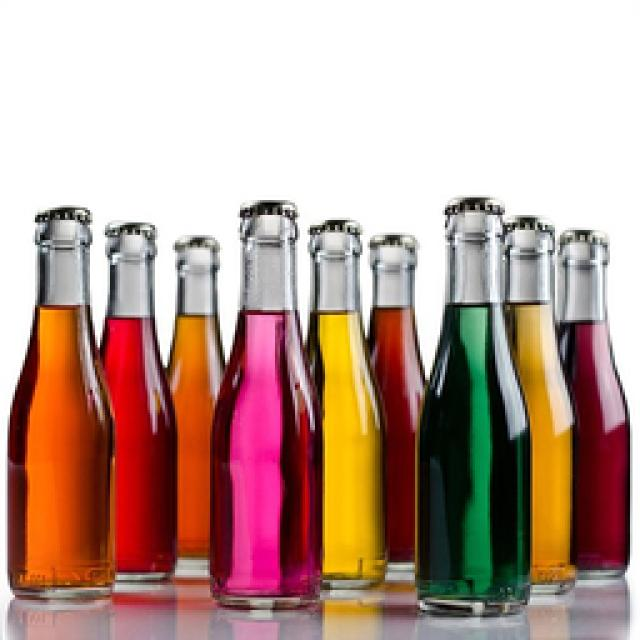glass_beverage_bottles: (425, 202, 535, 616), (217, 203, 315, 607), (8, 207, 107, 588), (298, 220, 380, 582)
